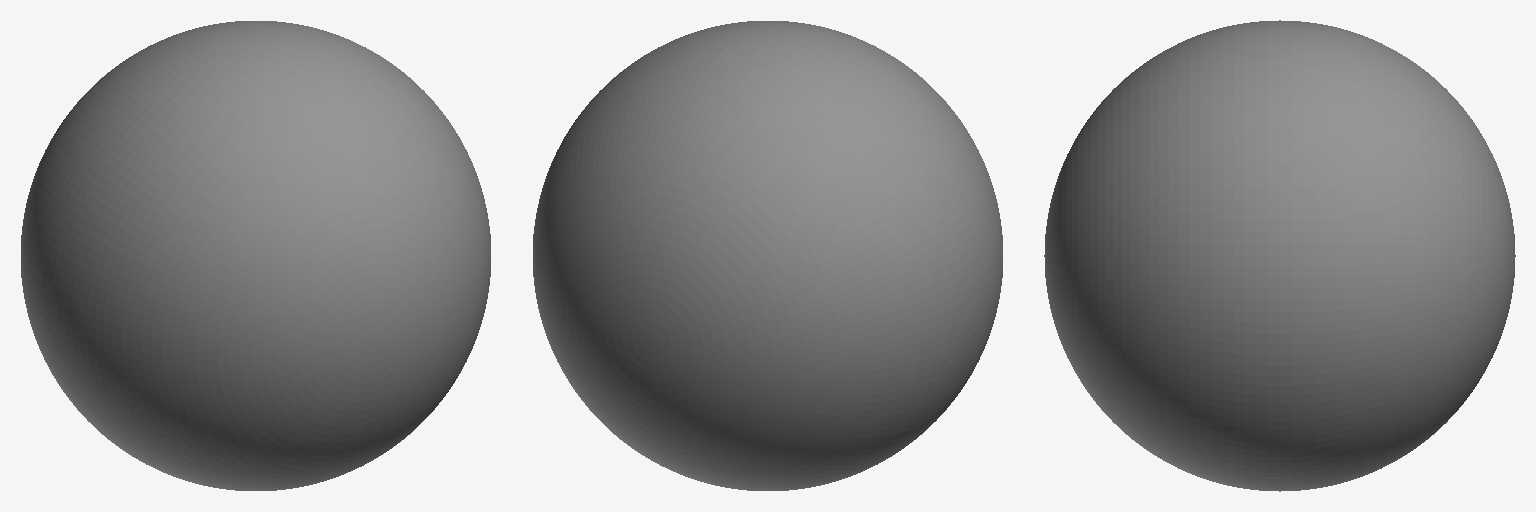
The model's file is earth.obj.
3 views of the same model, side by side, from view 1: azimuth 30°, elevation 25°; view 2: azimuth 150°, elevation 25°; view 3: azimuth 270°, elevation 25° (orthographic).
Parts seen in each view (by area): view 1: Earth16128Tris; view 2: Earth16128Tris; view 3: Earth16128Tris.
Part boxes in pixels (left/top/right/bottom): Earth16128Tris: left=21, top=21, right=490, bottom=490; Earth16128Tris: left=533, top=21, right=1002, bottom=490; Earth16128Tris: left=1044, top=20, right=1515, bottom=491.
Bounding box in the file's own units: 4039 × 4039 × 4039.